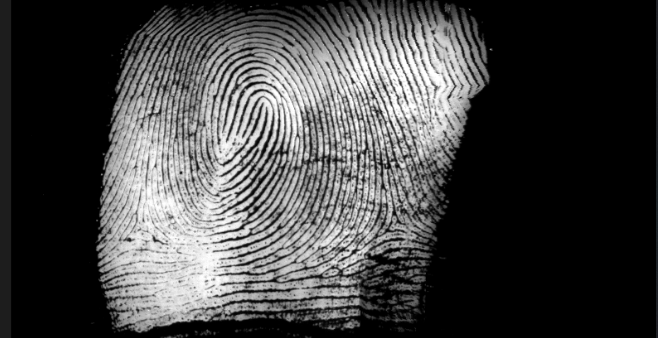deltas: (360, 191, 416, 250), (121, 196, 167, 250)
nucleo: (225, 75, 287, 147)
